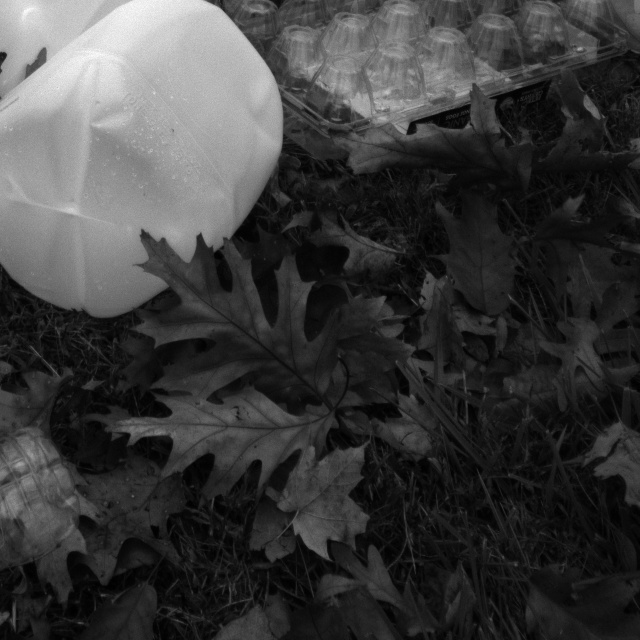bottle: (0, 425, 83, 640)
can: (0, 0, 279, 323), (0, 0, 142, 106), (533, 0, 639, 69)
container: (175, 0, 639, 144)
